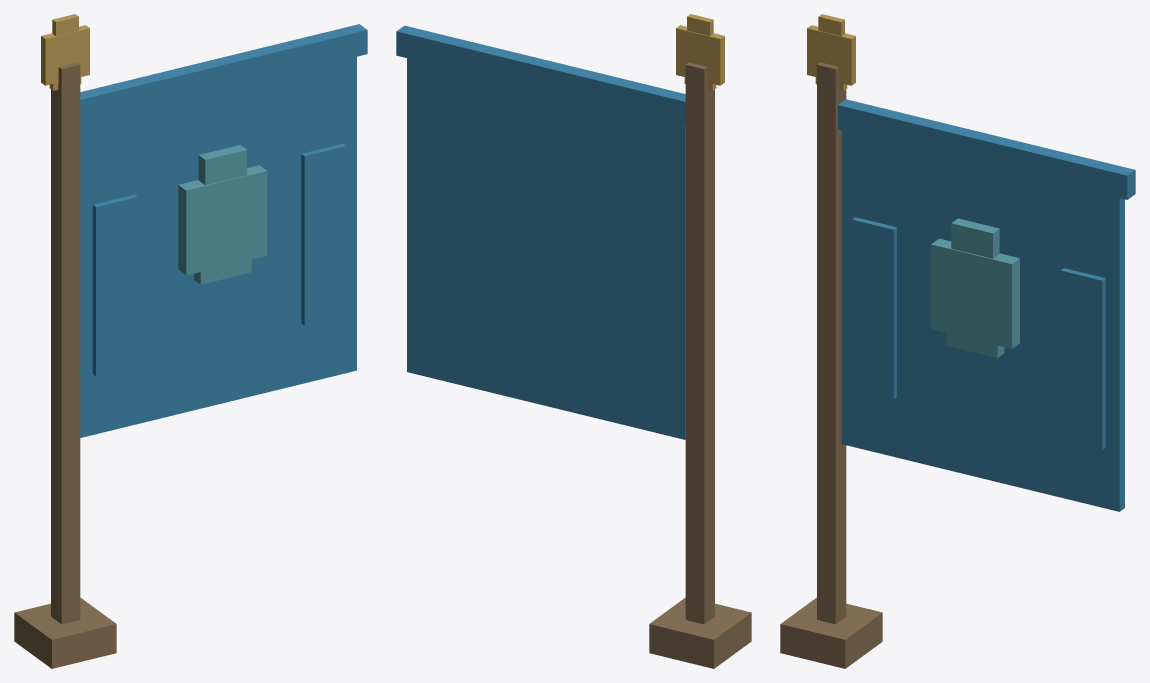
File: cosmetic_banner_tide_ribbon.glb
3 renders of one model, left to right at view 1: azimuth 30°, elevation 25°; view 2: azimuth 150°, elevation 25°; view 3: azimuth 330°, elevation 25°, orthographic.
Visible parts, largest first — view 1: CosmeticArt_cloth, CosmeticArt_pole, CosmeticArt_crest, CosmeticArt_finial; view 2: CosmeticArt_cloth, CosmeticArt_pole, CosmeticArt_finial; view 3: CosmeticArt_cloth, CosmeticArt_pole, CosmeticArt_crest, CosmeticArt_finial.
Part boxes in pixels (x1,y1,x2,y2): CosmeticArt_cloth: (80, 24, 367, 437); CosmeticArt_pole: (14, 62, 116, 668); CosmeticArt_crest: (178, 145, 267, 284); CosmeticArt_finial: (41, 14, 89, 90); CosmeticArt_cloth: (396, 25, 685, 439); CosmeticArt_pole: (649, 62, 751, 668); CosmeticArt_finial: (676, 14, 724, 90); CosmeticArt_cloth: (838, 99, 1135, 511); CosmeticArt_pole: (780, 62, 882, 668); CosmeticArt_crest: (931, 218, 1019, 357); CosmeticArt_finial: (807, 14, 855, 90).
Bounding box in the file's own units: 1.43 × 2.6 × 0.28.
